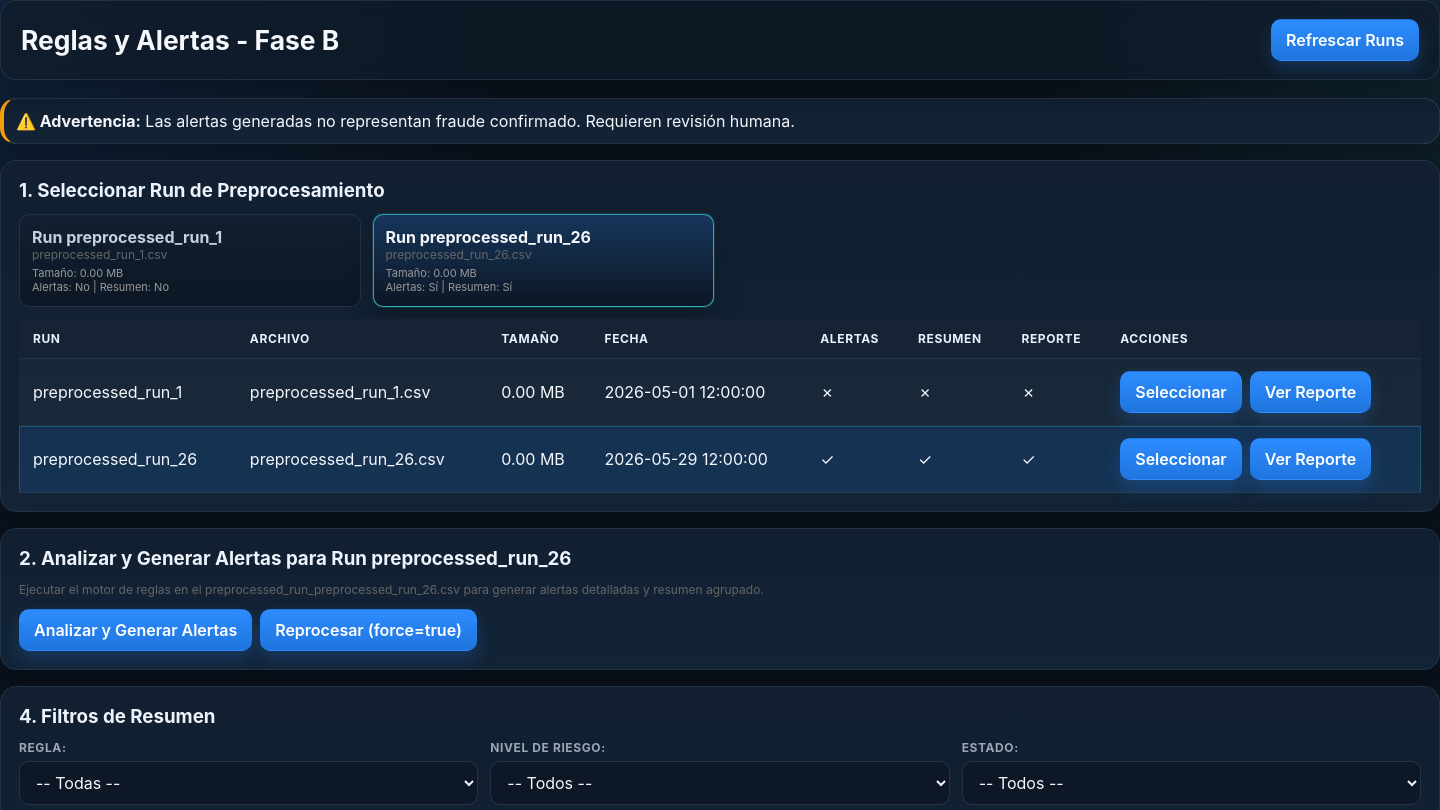
Scenario: RulesAlerts page › formats dates and loads masked card lookup in the detail modal
The width and height of the screenshot is (1440, 810).
Click the button "Analizar y Generar Alertas" at (136, 630), box [19, 609, 252, 651]
(page scrolled)
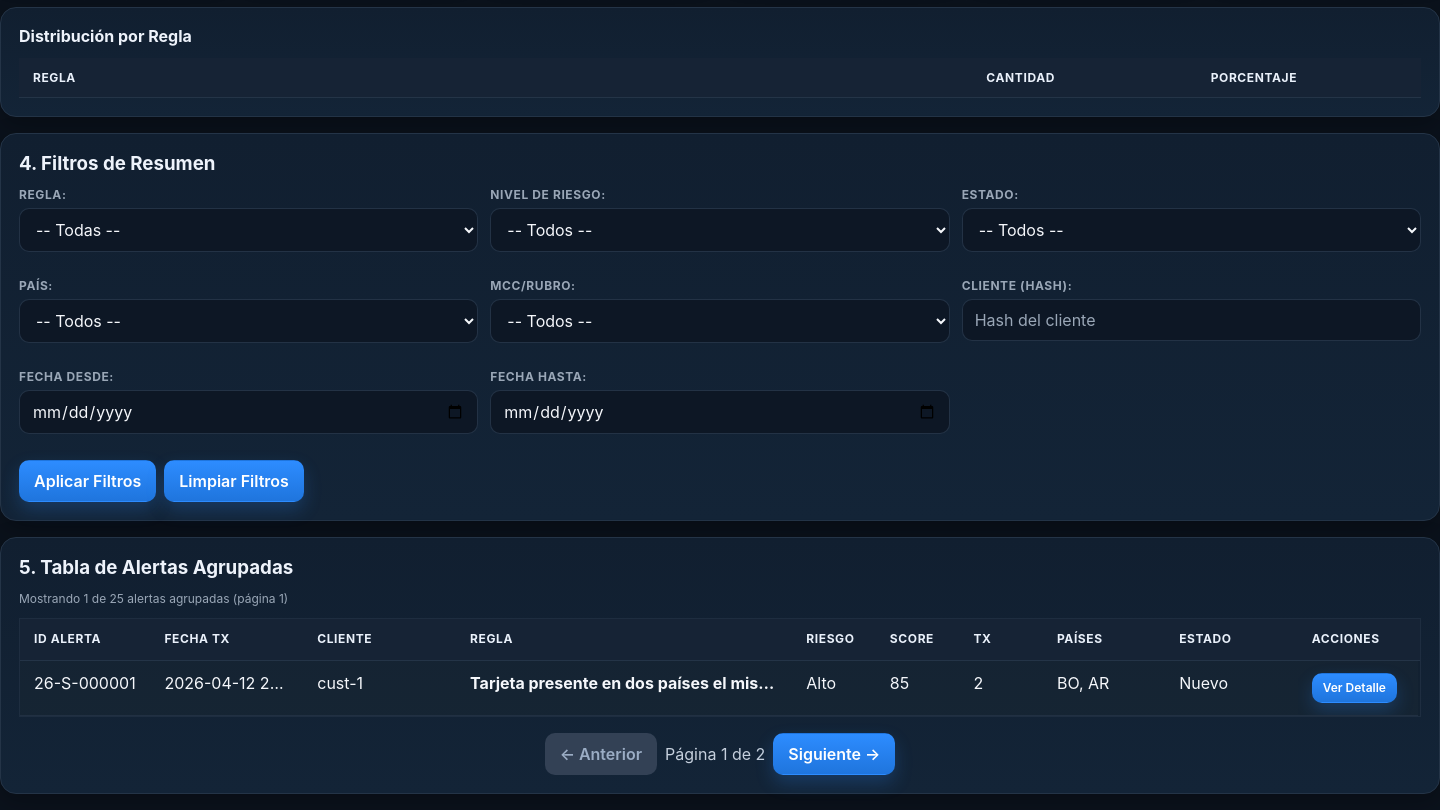
Expected: the button "Ver Detalle" is shown
Click the button "Ver Detalle" at (1354, 688), box [1312, 673, 1397, 703]
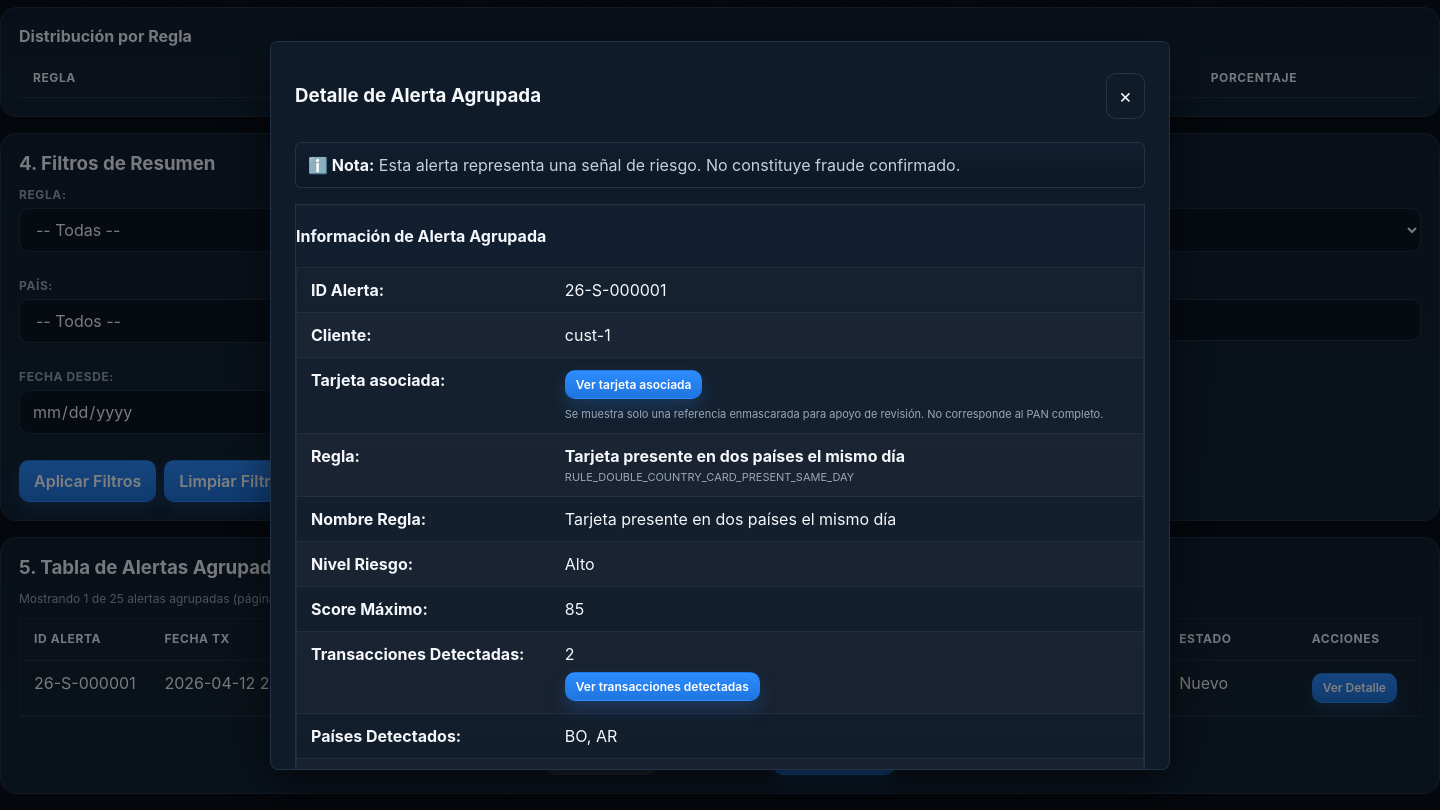
Expected: the text "2026-04-12 21:56:11" in the row of "Nuevo" is shown, [164, 673, 318, 693]
Expected: the button "Ver tarjeta asociada" is shown
Click the button "Ver tarjeta asociada" at (634, 385), box [565, 370, 702, 400]
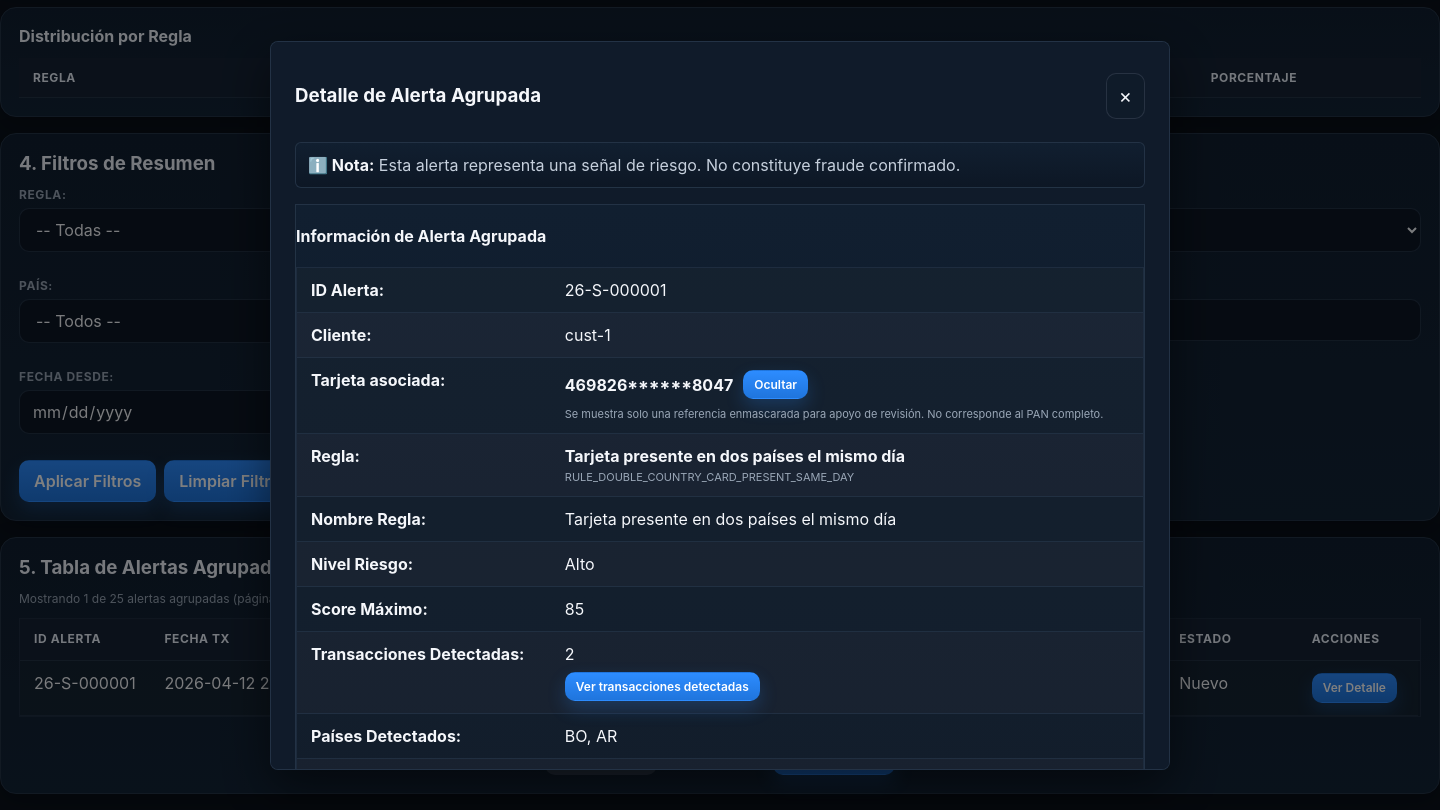
Expected: the text "469826******8047" is shown, [565, 375, 733, 395]
